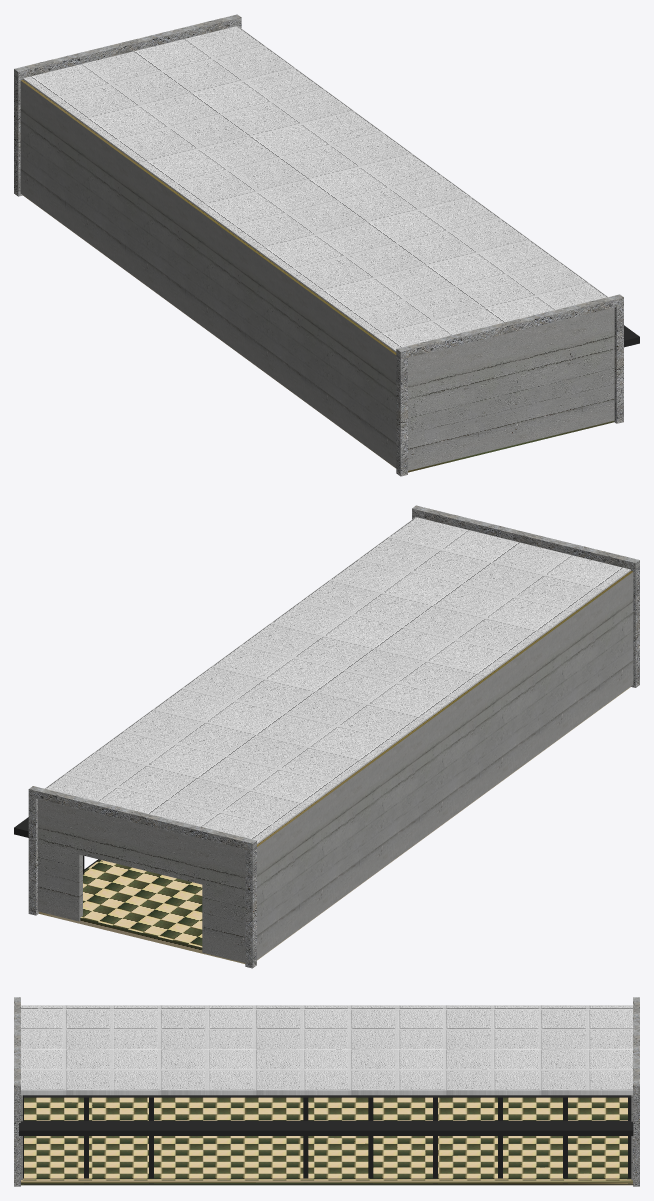
Rendered from laundromat.glb.
3 views of the same model, one above another, from view 1: azimuth 30°, elevation 25°; view 2: azimuth 150°, elevation 25°; view 3: azimuth 270°, elevation 25° (orthographic). The views are drawn at different scales.
Visible parts, largest first — view 1: Floor.001, backwall, Wall, Pillar.004, Pillar.005, Pillar.003, Pillar.002, Pillar.001, Floor; view 2: Floor.001, backwall, Wall.003, Floor, Pillar.005, Pillar.004, Pillar.001, Pillar, Pillar.003; view 3: Floor.001, Floor, FRONT, Pillar, Pillar.002, Pillar.004, Pillar.005.
Boxes of the visible parts, <box> form: Floor.001: <box>23,26,607,352</box>; backwall: <box>20,80,396,467</box>; Wall: <box>408,307,614,470</box>; Pillar.004: <box>396,294,623,359</box>; Pillar.005: <box>14,14,241,79</box>; Pillar.003: <box>396,356,407,476</box>; Pillar.002: <box>614,305,623,423</box>; Pillar.001: <box>14,71,25,196</box>; Floor: <box>23,195,614,472</box>; Floor.001: <box>45,517,630,844</box>; backwall: <box>257,571,633,959</box>; Wall.003: <box>38,799,245,962</box>; Floor: <box>39,687,630,963</box>; Pillar.005: <box>28,786,256,851</box>; Pillar.004: <box>412,505,639,570</box>; Pillar.001: <box>245,848,256,968</box>; Pillar: <box>28,797,38,915</box>; Pillar.003: <box>628,562,639,687</box>; Floor.001: <box>21,1005,632,1095</box>; Floor: <box>21,1097,632,1185</box>; FRONT: <box>19,1095,633,1184</box>; Pillar: <box>633,1086,639,1186</box>; Pillar.002: <box>14,1086,20,1186</box>; Pillar.004: <box>14,997,20,1085</box>; Pillar.005: <box>633,997,639,1085</box>.
Bounding box in the file's own units: 19.46 × 9.57 × 53.78.
Materials: 7 (6 with a texture image).
